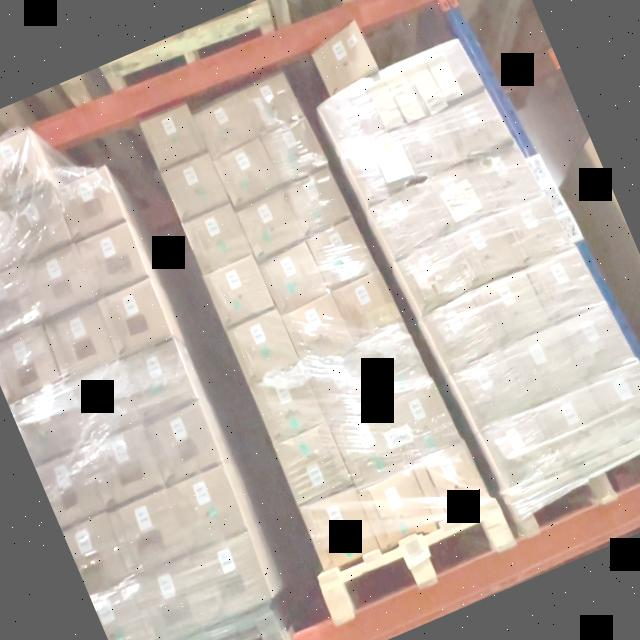box: (190, 533, 274, 621), (129, 556, 214, 640), (108, 489, 190, 574), (167, 466, 246, 552), (61, 359, 142, 441), (142, 401, 222, 484), (301, 488, 379, 572), (274, 422, 352, 505), (84, 425, 164, 505), (504, 326, 582, 406), (412, 442, 489, 523), (8, 382, 84, 463), (120, 338, 196, 418), (333, 410, 409, 488), (384, 380, 458, 460), (43, 301, 119, 378), (537, 386, 612, 464), (306, 348, 381, 426), (482, 410, 556, 489), (74, 221, 150, 297), (20, 242, 95, 317), (454, 353, 528, 429), (423, 296, 497, 372), (360, 472, 436, 546), (98, 278, 172, 354), (250, 366, 324, 441), (358, 323, 428, 401), (558, 304, 630, 378), (227, 308, 299, 382), (52, 165, 126, 237), (474, 270, 546, 343), (0, 189, 72, 262), (530, 248, 599, 321), (311, 18, 376, 95), (420, 162, 489, 234), (447, 214, 516, 286), (282, 296, 352, 366), (332, 269, 400, 341), (398, 242, 467, 312), (344, 134, 414, 203), (182, 204, 252, 273), (470, 142, 538, 212), (204, 256, 274, 324), (258, 244, 328, 312), (499, 193, 566, 264), (0, 324, 62, 400), (307, 217, 373, 288), (370, 186, 438, 254), (162, 153, 228, 219), (396, 111, 461, 178), (319, 87, 386, 152), (589, 359, 640, 442), (413, 39, 478, 104), (366, 60, 431, 125), (443, 90, 507, 156), (236, 192, 302, 256), (141, 104, 205, 168), (261, 116, 324, 180), (214, 142, 279, 204), (286, 169, 348, 234), (239, 74, 301, 133), (194, 98, 255, 156), (0, 130, 45, 200), (0, 263, 40, 339), (0, 209, 19, 280)
